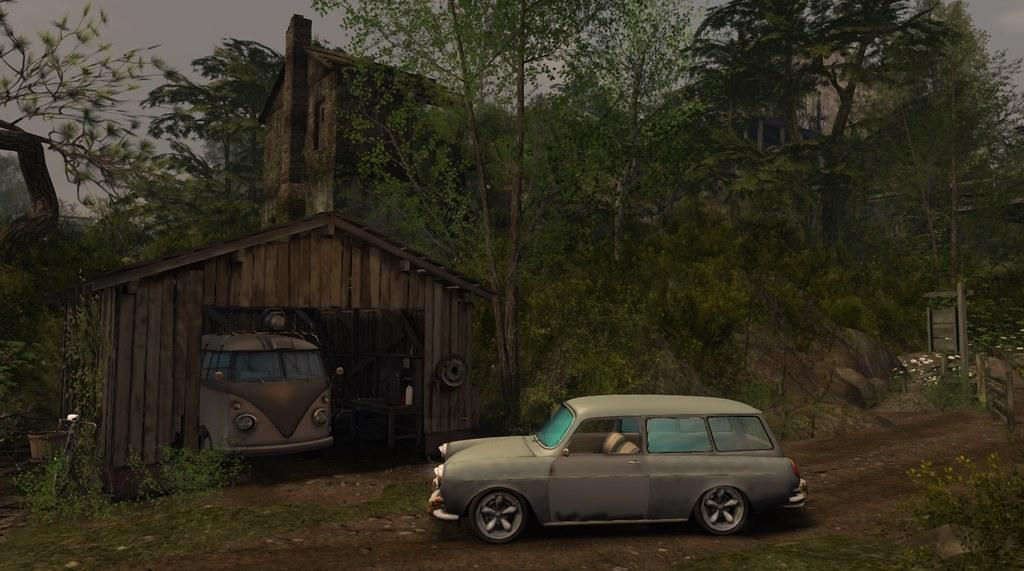car: (428, 394, 809, 545), (198, 306, 337, 459)
